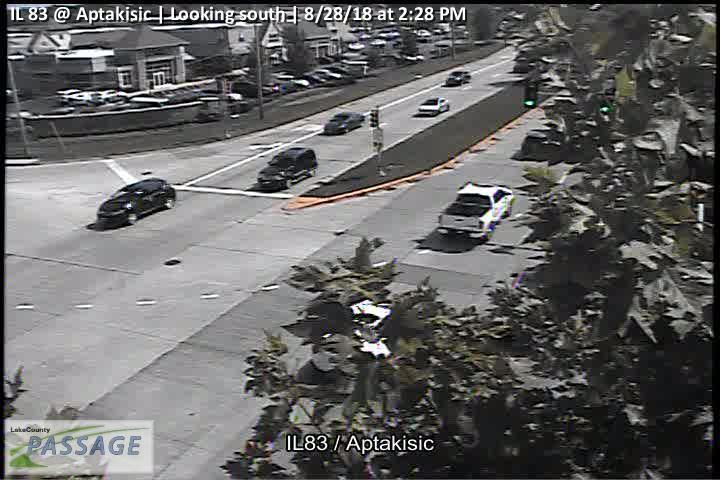SUV: (256, 147, 318, 192)
Sedan: (95, 177, 176, 225), (323, 111, 364, 136), (418, 97, 450, 116), (445, 71, 473, 88)
Truck: (438, 179, 514, 243)
